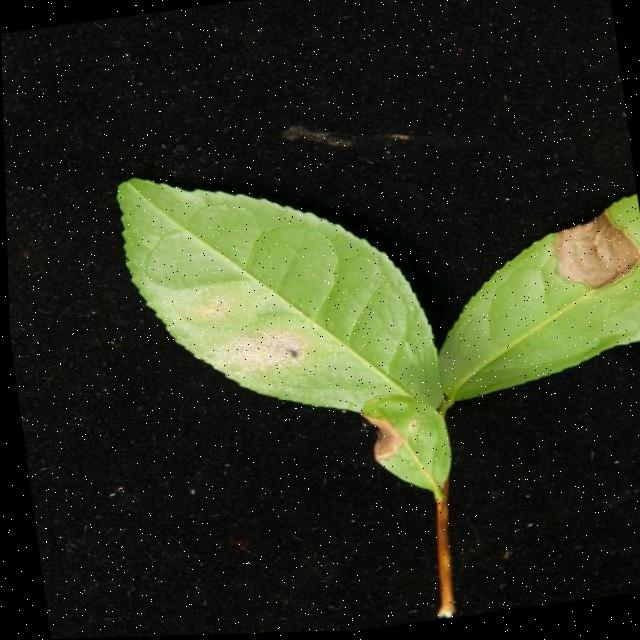Tea exobasidium blight: (176, 294, 332, 393)
